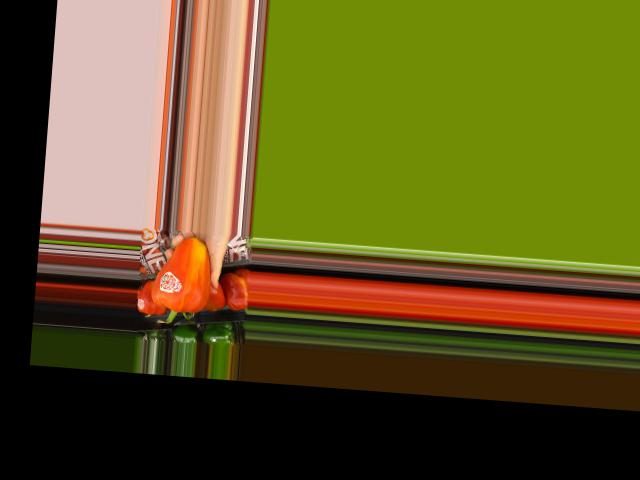bell_pepper: (147, 235, 220, 328)
